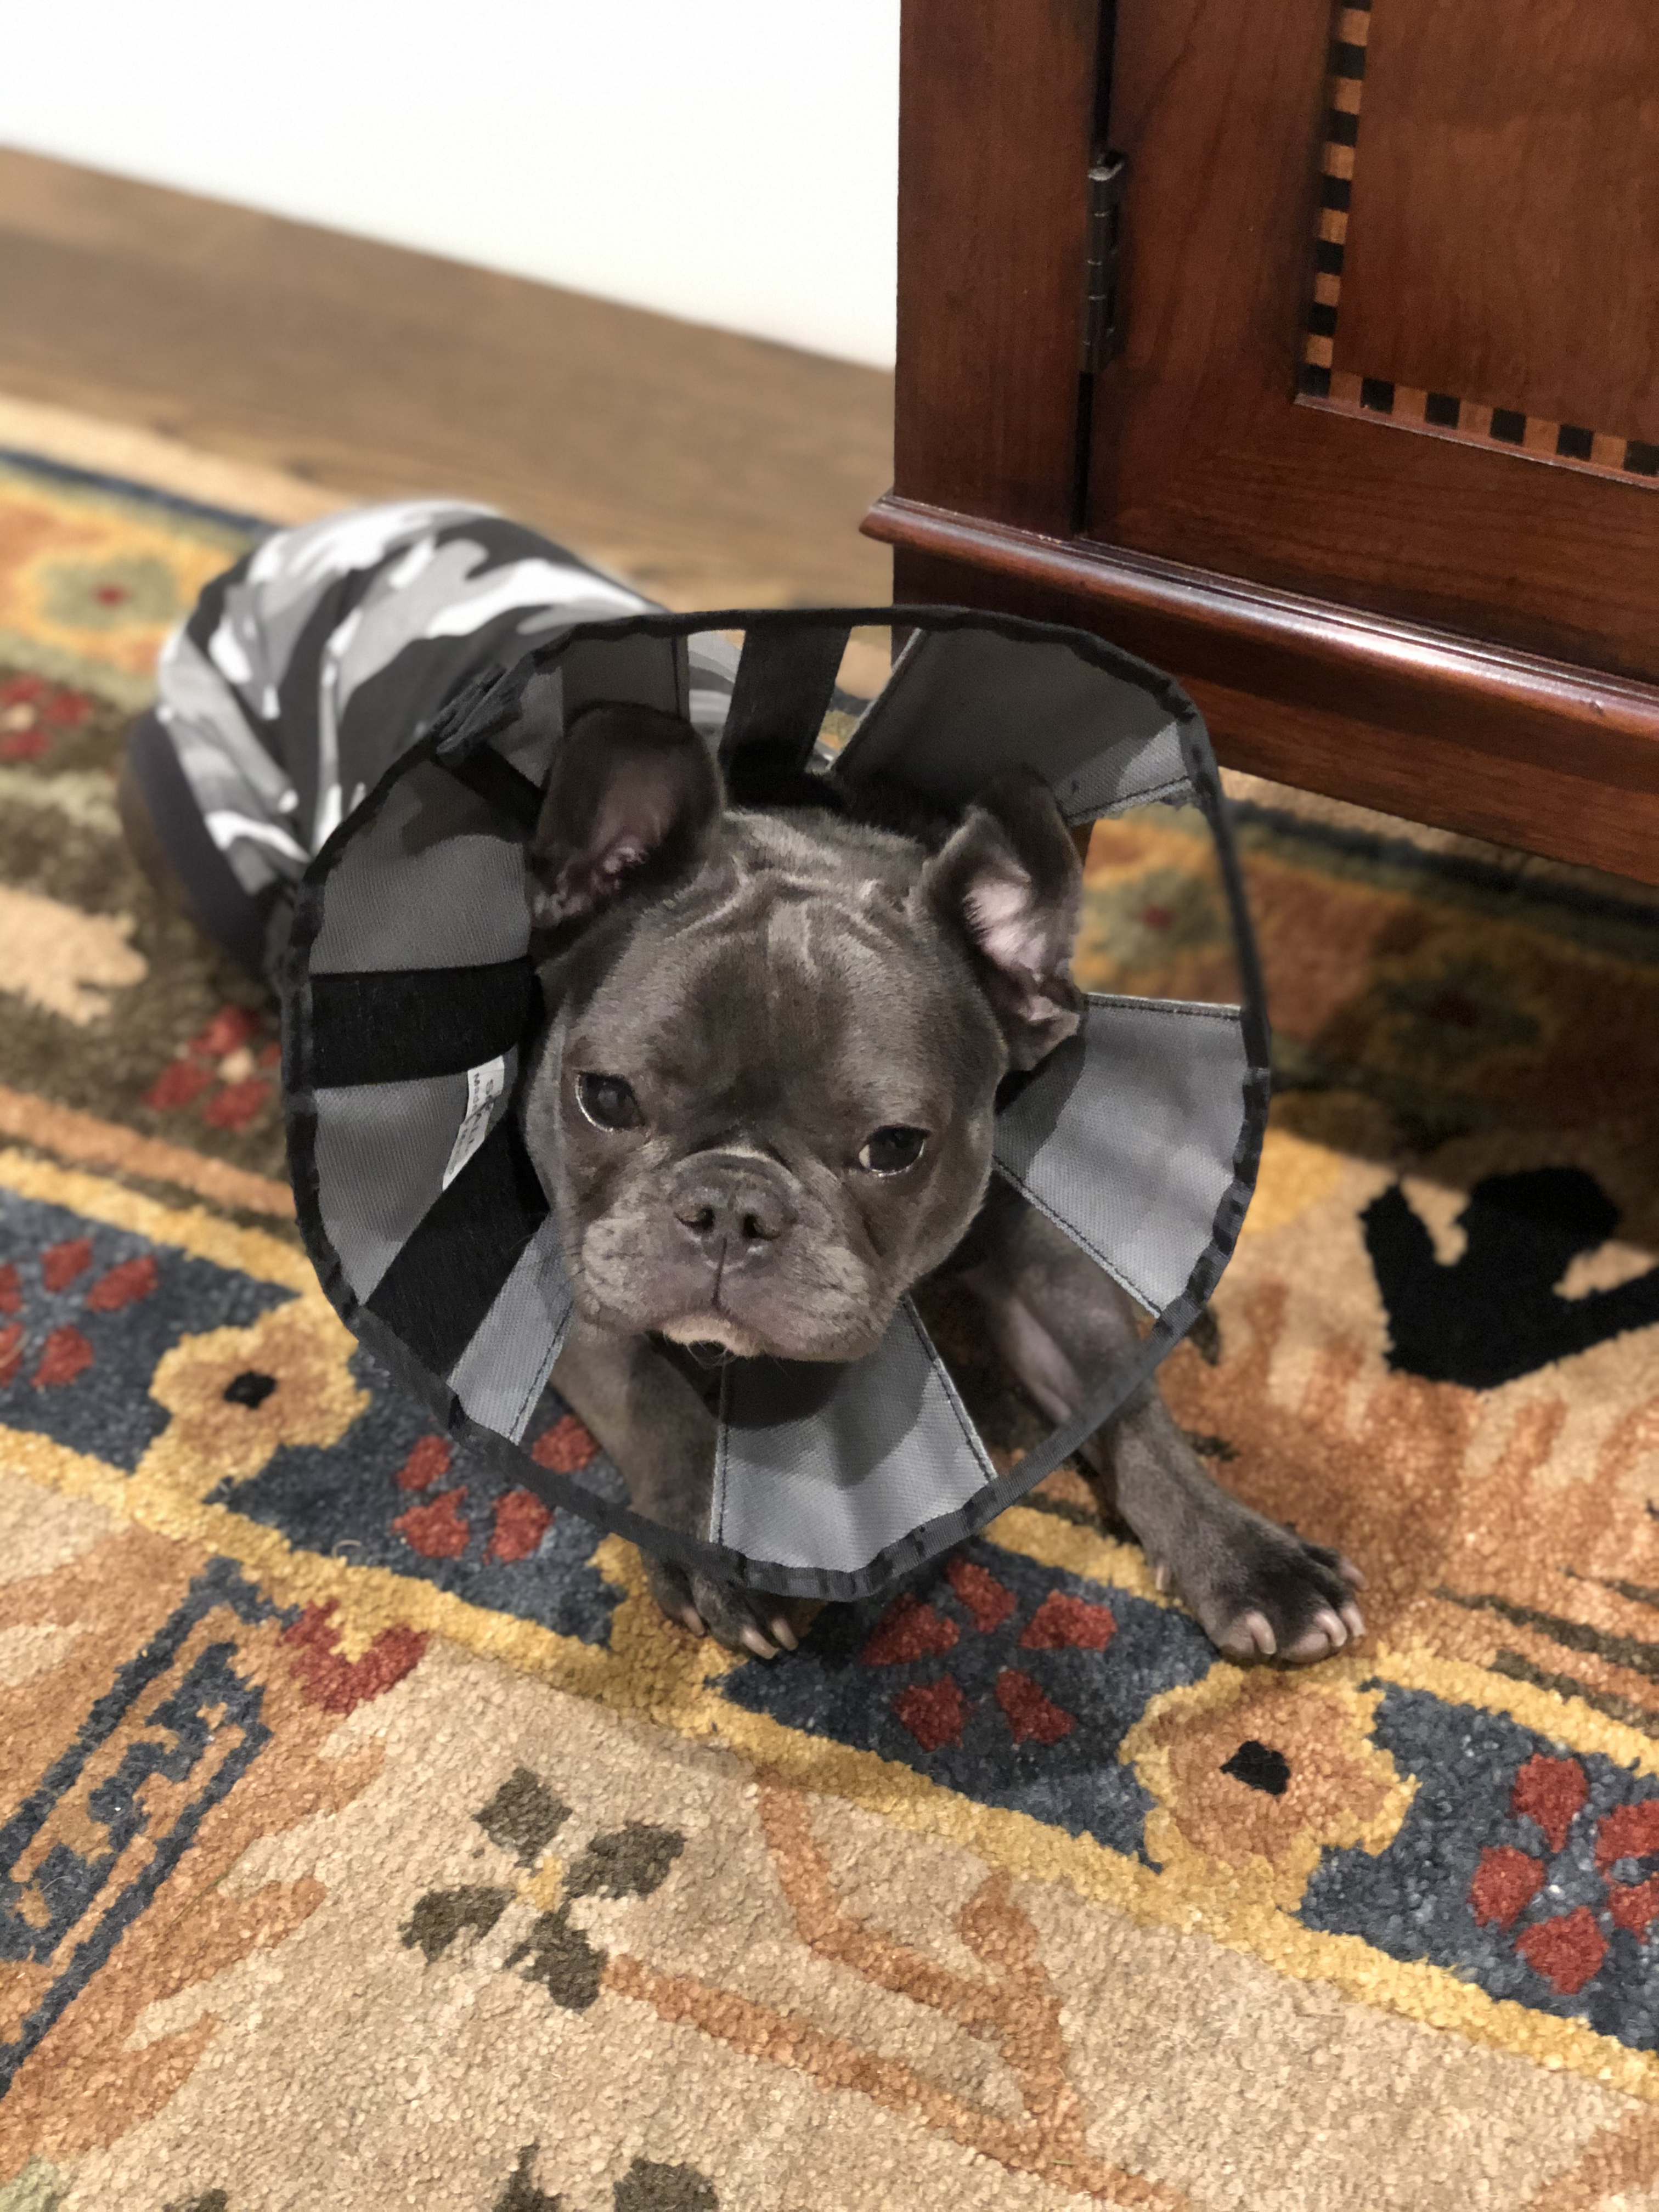lucy: (112, 491, 1380, 1686)
